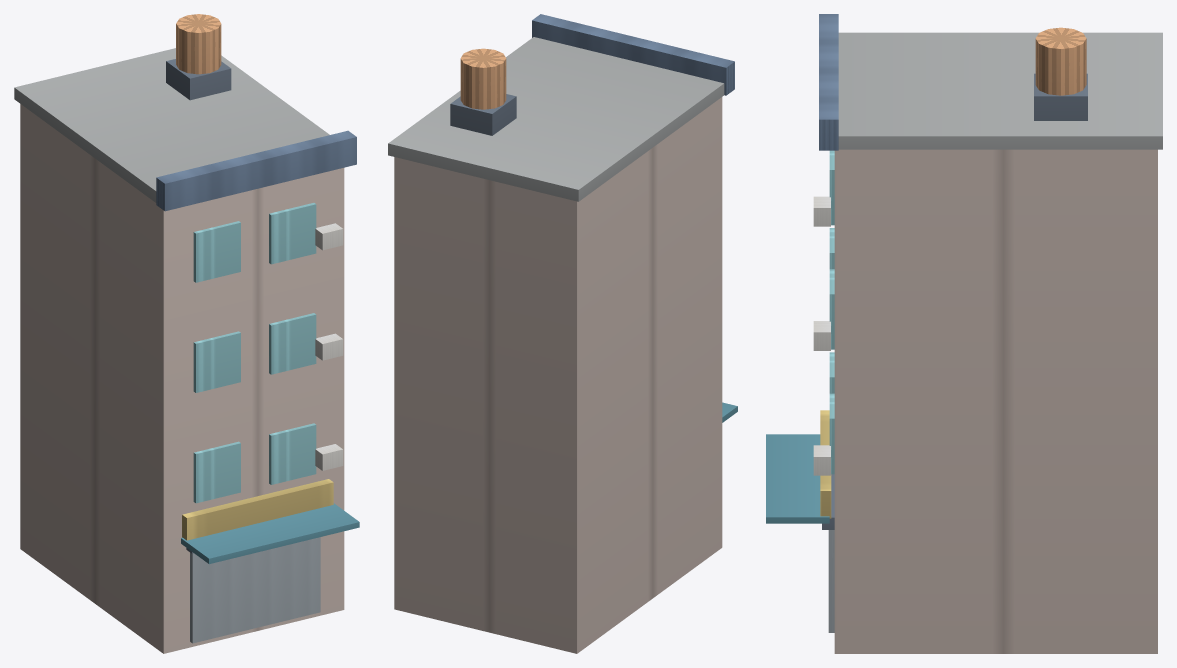
File: ruko_tall.glb
3 views of the same model, side by side, from view 1: azimuth 30°, elevation 25°; view 2: azimuth 150°, elevation 25°; view 3: azimuth 270°, elevation 25° (orthographic). The views are drawn at different scales.
Visible parts, largest first — view 1: ruko_tall; view 2: ruko_tall; view 3: ruko_tall.
Part boxes in pixels (x1=…): ruko_tall: x1=14, y1=14, x2=359, y2=653; ruko_tall: x1=388, y1=14, x2=737, y2=653; ruko_tall: x1=766, y1=14, x2=1162, y2=653.
Size of the model in its own units: 5.1 by 13.3 by 8.1.
1 material, 1 textured.
